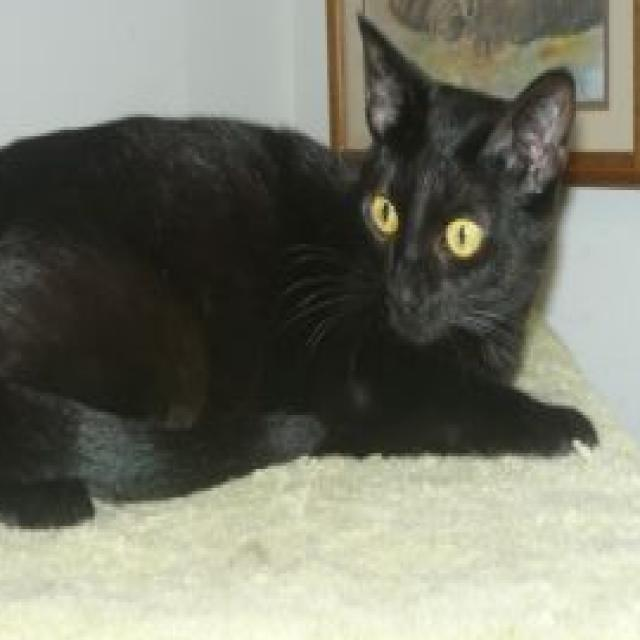Bombay: (0, 9, 600, 536)
